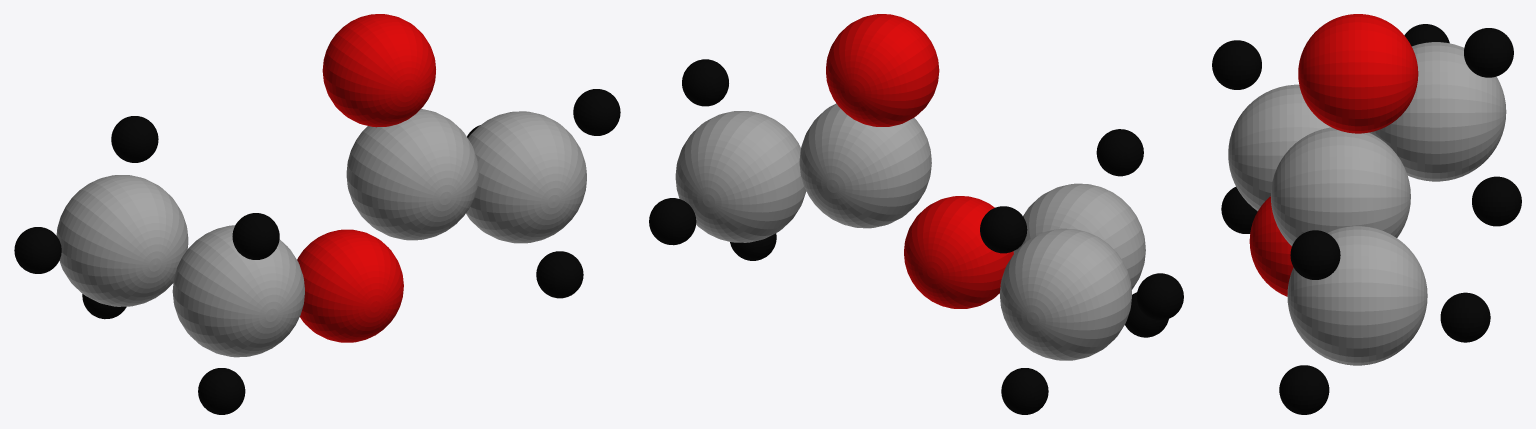
Rendered from Ethyl Acetate.glb.
3 renders of one model, left to right at view 1: azimuth 30°, elevation 25°; view 2: azimuth 150°, elevation 25°; view 3: azimuth 270°, elevation 25°, orthographic. The views are drawn at different scales.
Visible parts, largest first — view 1: world; view 2: world; view 3: world.
Boxes of the visible parts, x1=… form: world: x1=14, y1=14, x2=620, y2=414; world: x1=649, y1=14, x2=1183, y2=414; world: x1=1212, y1=14, x2=1521, y2=414.
Size of the model in its own units: 6.68 by 3.54 by 3.09.
